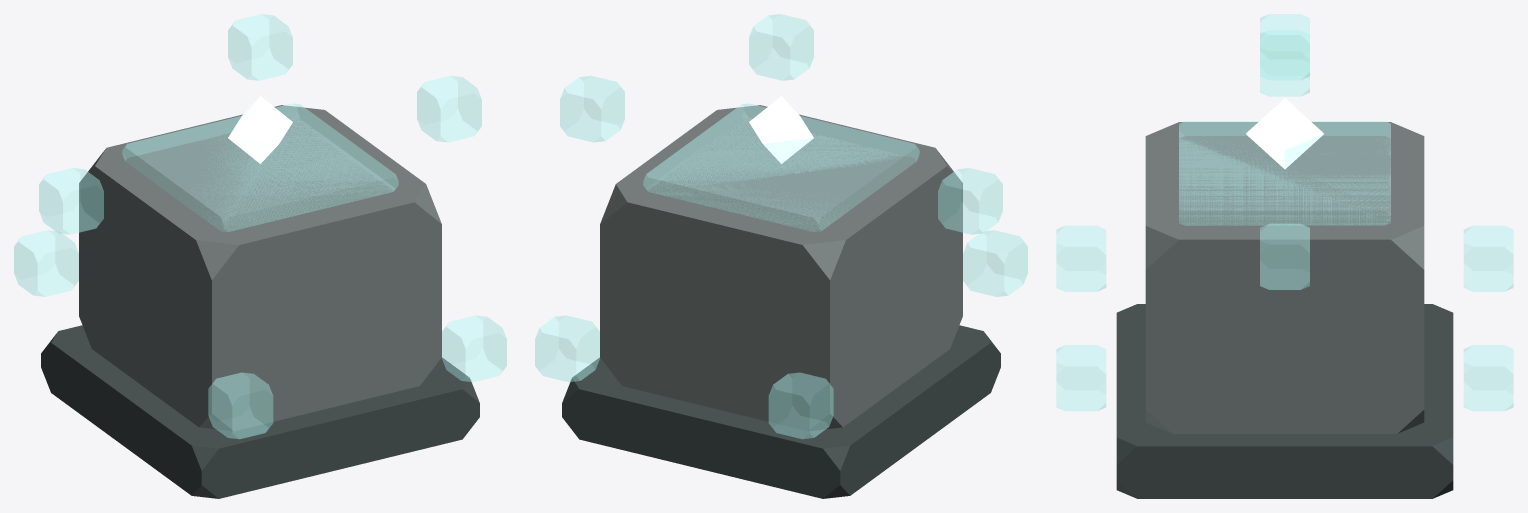
Rendered from step-node.glb.
3 renders of one model, left to right at view 1: azimuth 30°, elevation 25°; view 2: azimuth 150°, elevation 25°; view 3: azimuth 270°, elevation 25°, orthographic. The views are drawn at different scales.
Visible parts, largest first — view 1: Step_Body, Step_Base, Step_State, Step_Stage_4, Step_Stage_1, Step_Stage_2, Step_Stage_3, Step_Stage_5, Step_Stage_6, Step_Core; view 2: Step_Body, Step_Base, Step_State, Step_Stage_6, Step_Stage_1, Step_Stage_2, Step_Stage_4, Step_Stage_5, Step_Stage_7, Step_Core; view 3: Step_Body, Step_Base, Step_State, Step_Stage_4, Step_Stage_6, Step_Stage_3, Step_Stage_7, Step_Stage_1, Step_Stage_2, Step_Stage_5, Step_Core.
Boxes of the visible parts, box(x1,y1,x2,y2) form: Step_Body: box(79, 105, 441, 431); Step_Base: box(41, 325, 479, 498); Step_State: box(122, 103, 398, 231); Step_Stage_4: box(208, 372, 273, 439); Step_Stage_1: box(228, 14, 292, 80); Step_Stage_2: box(417, 75, 481, 142); Step_Stage_3: box(442, 315, 506, 382); Step_Stage_5: box(39, 168, 103, 234); Step_Stage_6: box(14, 230, 78, 296); Step_Core: box(228, 96, 292, 163); Step_Body: box(600, 105, 962, 431); Step_Base: box(562, 325, 1000, 498); Step_State: box(643, 103, 919, 231); Step_Stage_6: box(768, 372, 833, 439); Step_Stage_1: box(749, 14, 813, 80); Step_Stage_2: box(560, 75, 624, 142); Step_Stage_4: box(963, 230, 1027, 296); Step_Stage_5: box(938, 168, 1002, 234); Step_Stage_7: box(535, 315, 599, 382); Step_Core: box(749, 96, 813, 163); Step_Body: box(1145, 122, 1424, 433); Step_Base: box(1116, 304, 1453, 498); Step_State: box(1179, 121, 1390, 225); Step_Stage_4: box(1056, 225, 1106, 291); Step_Stage_6: box(1463, 225, 1513, 291); Step_Stage_3: box(1056, 345, 1106, 411); Step_Stage_7: box(1463, 345, 1513, 411); Step_Stage_1: box(1260, 14, 1309, 80); Step_Stage_2: box(1260, 223, 1309, 289); Step_Stage_5: box(1260, 30, 1309, 96); Step_Core: box(1246, 98, 1323, 169).
Bounding box in the file's own units: 2.44 × 2.14 × 2.2.
